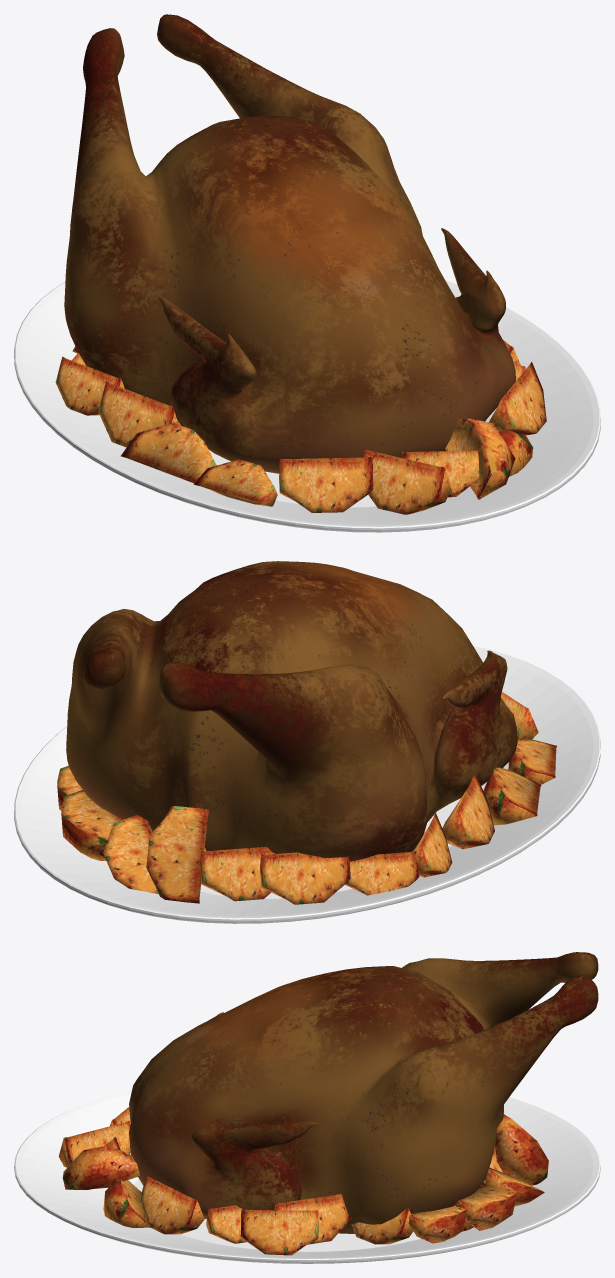
3 views of the same model, one above another, from view 1: azimuth 30°, elevation 25°; view 2: azimuth 150°, elevation 25°; view 3: azimuth 270°, elevation 25° (orthographic). The views are drawn at different scales.
Visible parts, largest first — view 1: frango, batata, Prato; view 2: frango, batata, Prato; view 3: frango, batata, Prato.
Part boxes in pixels (left/top/right/bottom): frango: left=64, top=14, right=515, bottom=473; batata: left=55, top=340, right=546, bottom=514; Prato: left=14, top=280, right=600, bottom=532; frango: left=66, top=561, right=517, bottom=861; batata: left=57, top=692, right=556, bottom=904; Prato: left=14, top=646, right=600, bottom=923; frango: left=129, top=952, right=598, bottom=1233; batata: left=58, top=1107, right=548, bottom=1255; Prato: left=14, top=1090, right=600, bottom=1263.
Size of the model in its own units: 281 by 164 by 369.
Materials: 3 (2 with a texture image).
